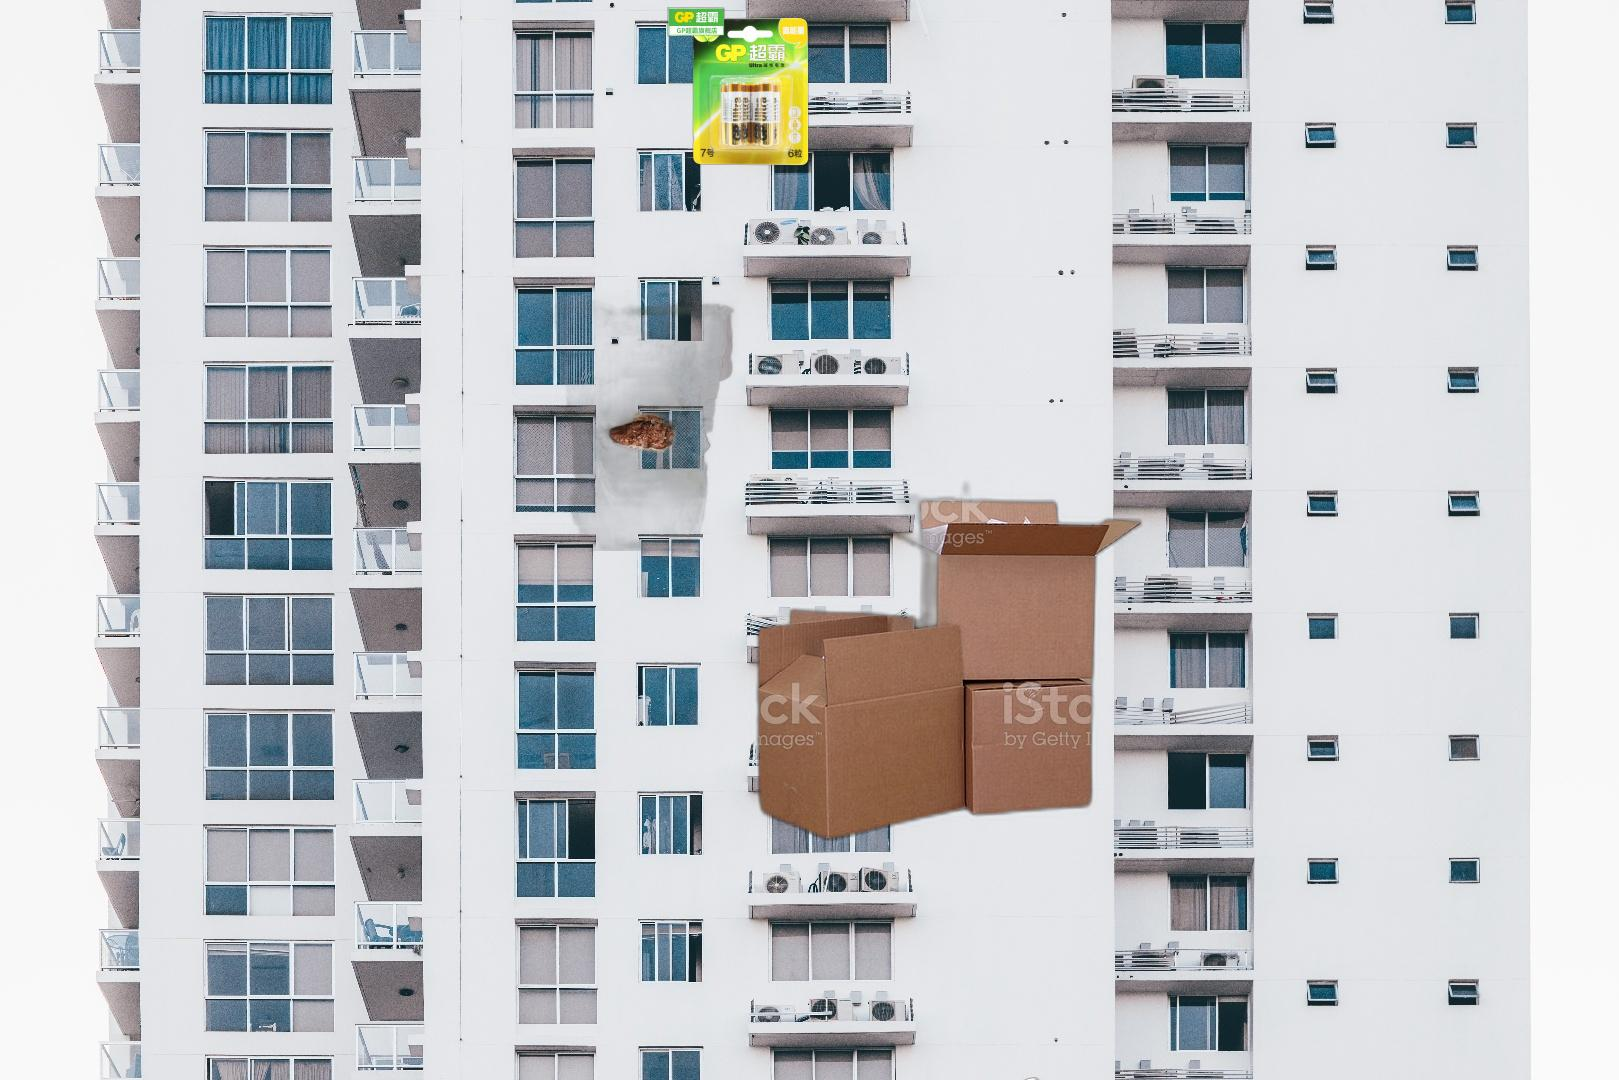battery: (667, 7, 811, 168)
shoes: (932, 1075, 1151, 1080)
trash: (547, 290, 740, 551)
trashbox-cardboard: (751, 479, 1148, 849)
